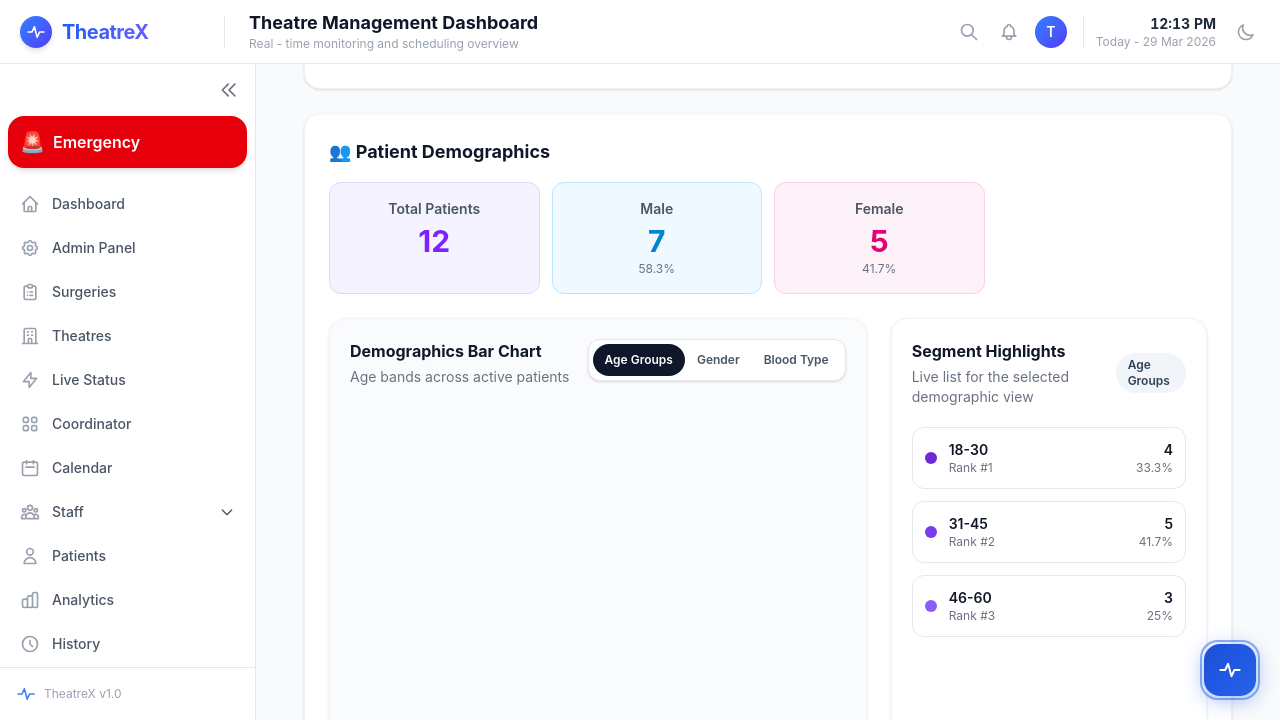
Scenario: AnalyticsPage - M3 Day 19 › switches the demographics bar chart to gender view
The image size is (1280, 720).
(page scrolled)
Click the button "Gender": (718, 360) [685,344,752,376]
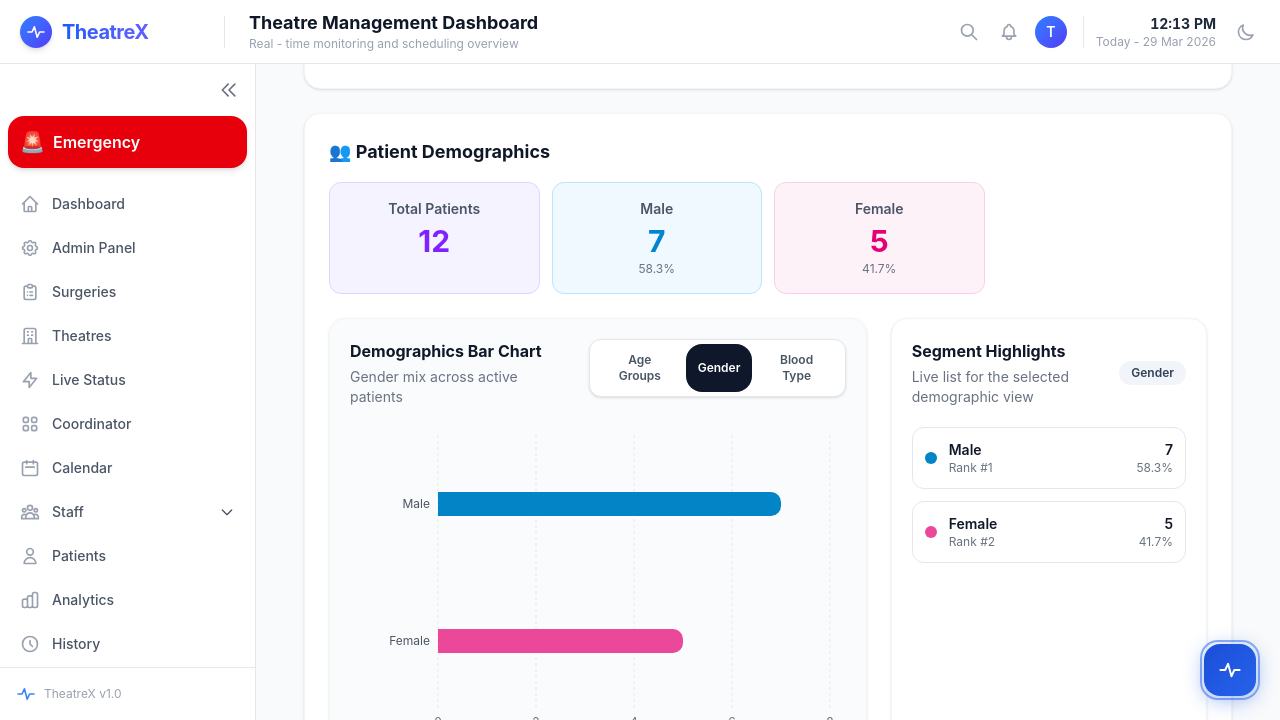
Expected: the text "Male" is shown, [402,496,430,511]
Now the text "Gender mix across active patients" is shown, box [350,368,518,405]
